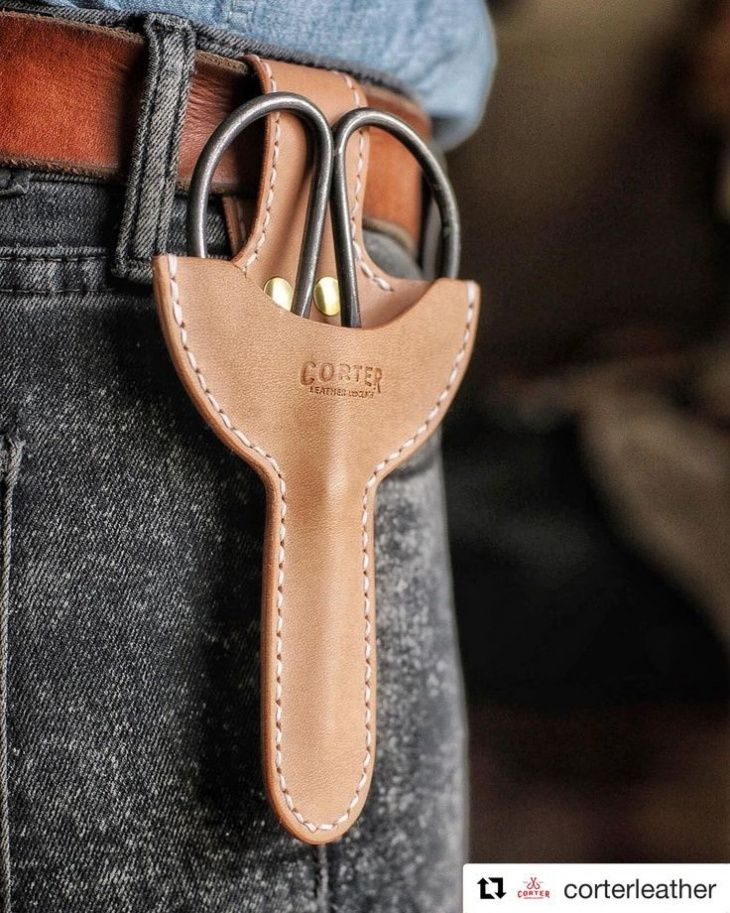cuero: (155, 54, 482, 844)
